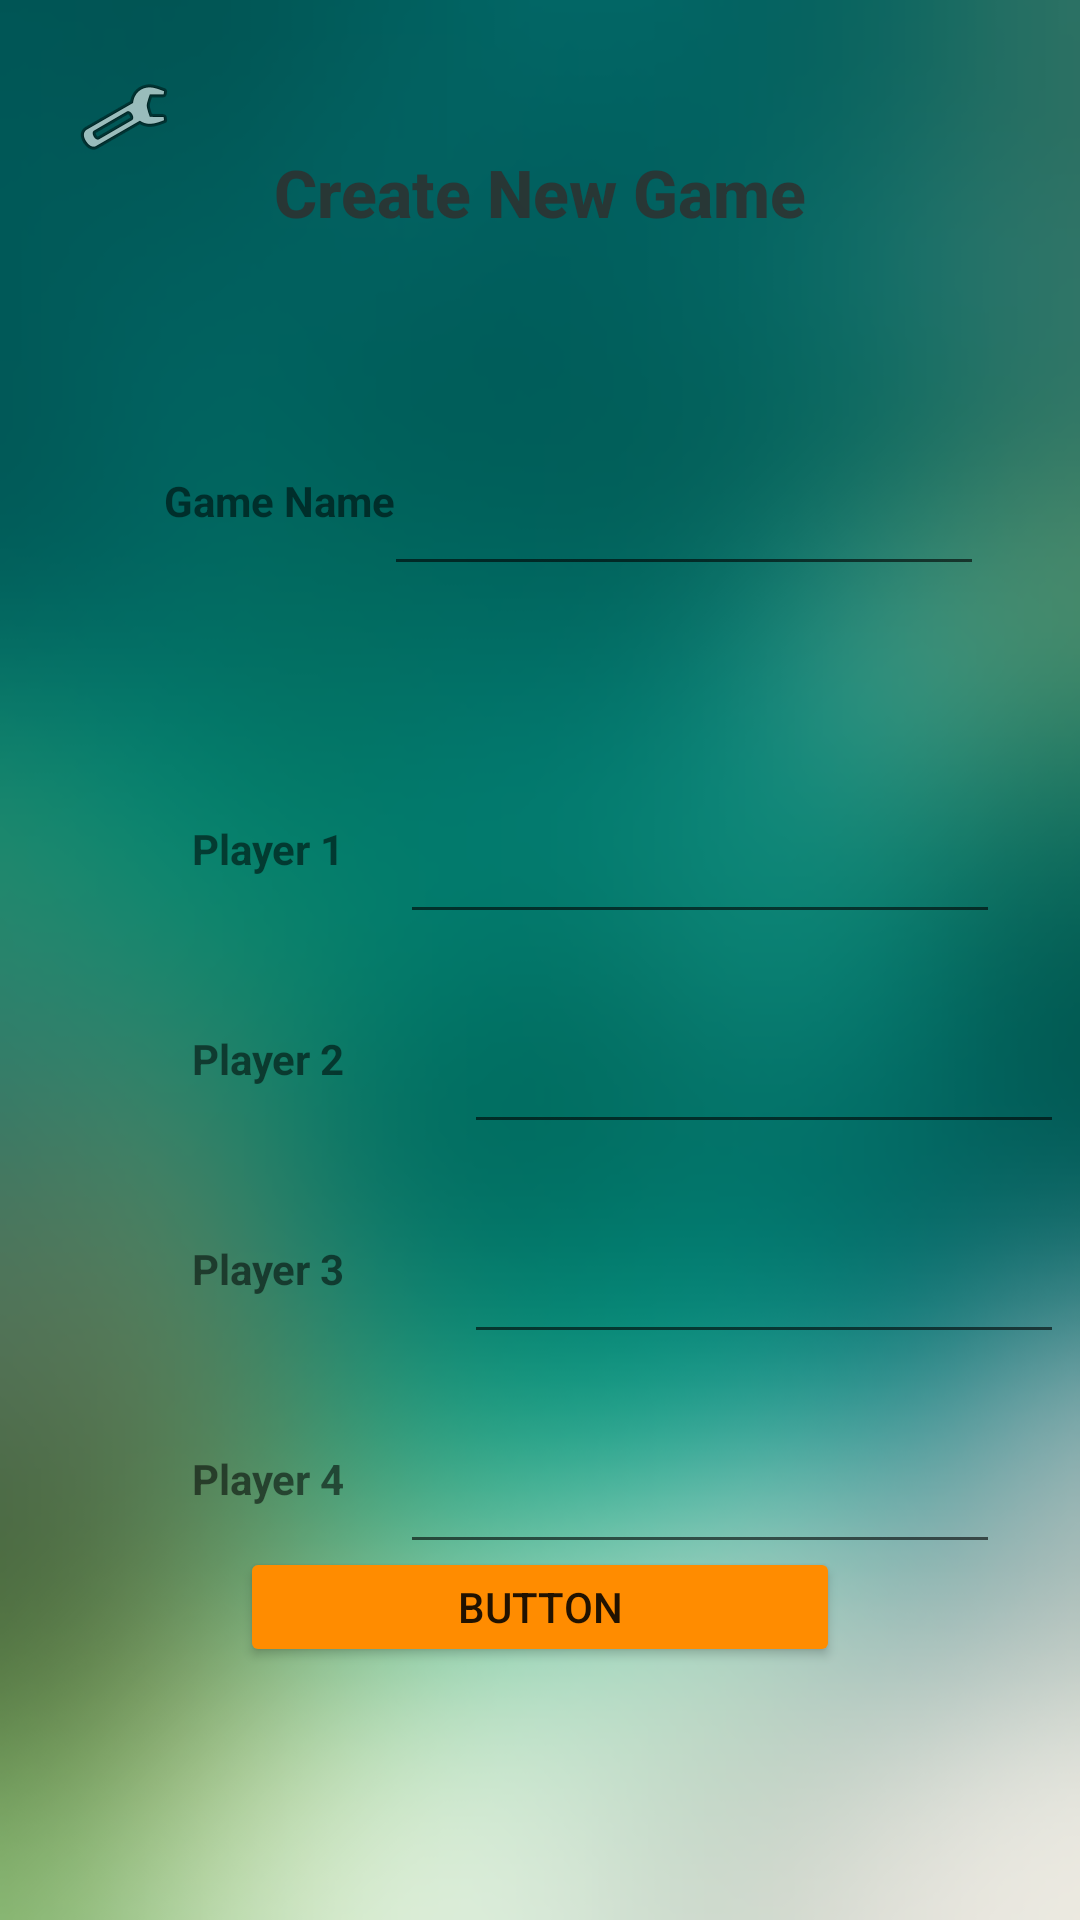

Where to tap for icons on this 1080px×1920px app screen, as [x,y]:
manage: [124,117]
